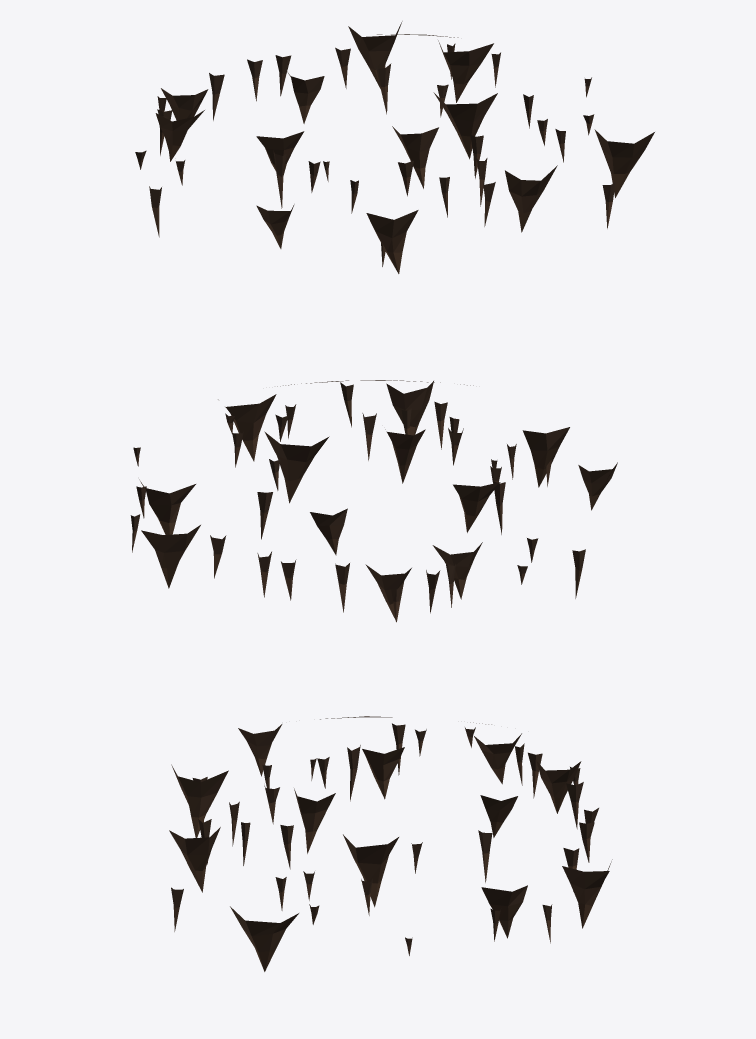
File: tl_cave_main_ceiling_v01.glb
3 renders of one model, top to bottom at view 1: azimuth 30°, elevation 25°; view 2: azimuth 150°, elevation 25°; view 3: azimuth 270°, elevation 25°, orthographic.
Visible parts, largest first — view 1: tl_cave_main_ceiling_v01; view 2: tl_cave_main_ceiling_v01; view 3: tl_cave_main_ceiling_v01.
Part boxes in pixels (x1,y1,x2,y2): tl_cave_main_ceiling_v01: [135, 21, 654, 273]; tl_cave_main_ceiling_v01: [130, 380, 617, 622]; tl_cave_main_ceiling_v01: [169, 716, 612, 971].
Bounding box in the file's own units: 51.12 × 7.63 × 51.18.
